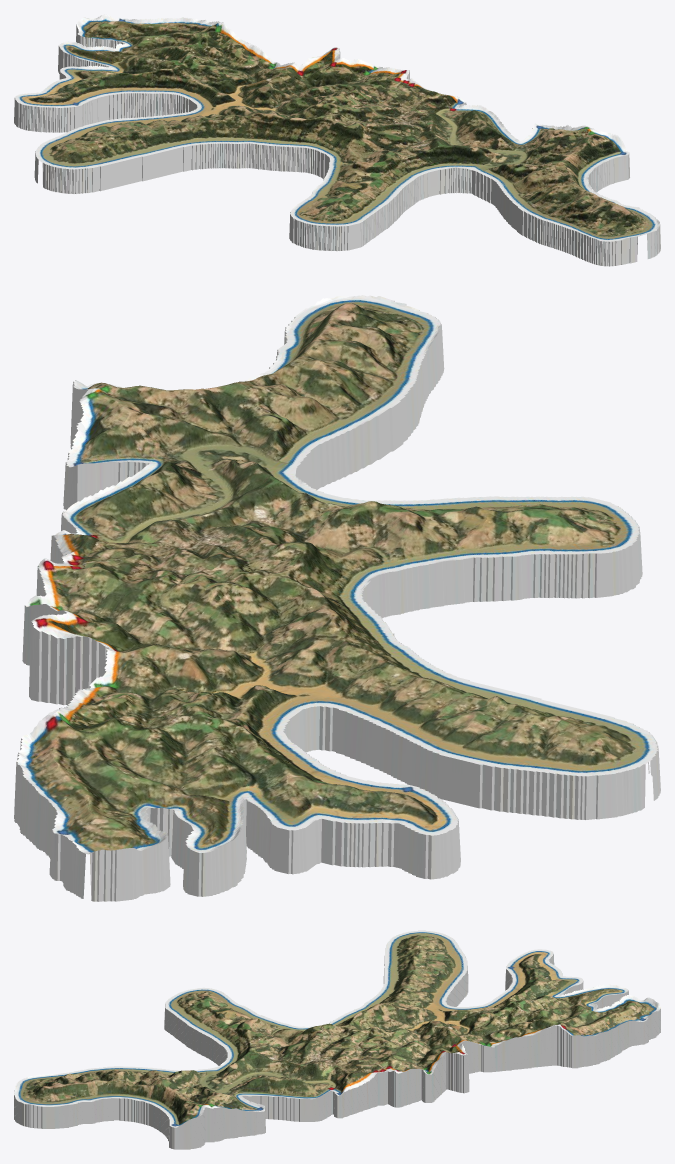
The picture shows the model from 3 angles, top to bottom: view 1: azimuth 30°, elevation 25°; view 2: azimuth 150°, elevation 25°; view 3: azimuth 270°, elevation 25°; orthographic projection. The views are drawn at different scales.
Size of the model in its own units: 1 by 0.0933 by 1.38.
Materials: 1 (1 with a texture image).
